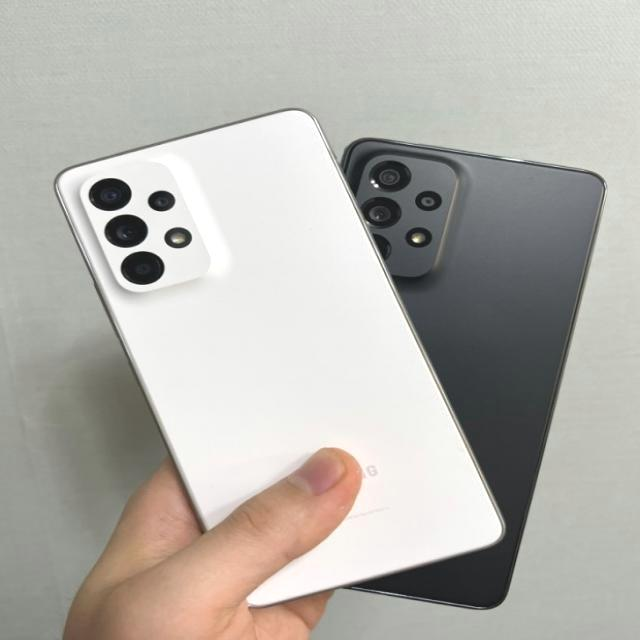lens: (72, 163, 213, 299), (358, 143, 451, 264)
phone: (49, 110, 504, 607), (342, 131, 608, 602)
